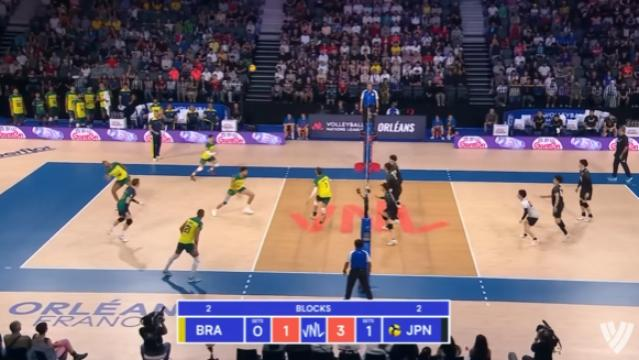Levantador: (298, 162, 345, 234)
Libero: (505, 184, 551, 252), (107, 172, 147, 248)
bola: (245, 60, 264, 78)
